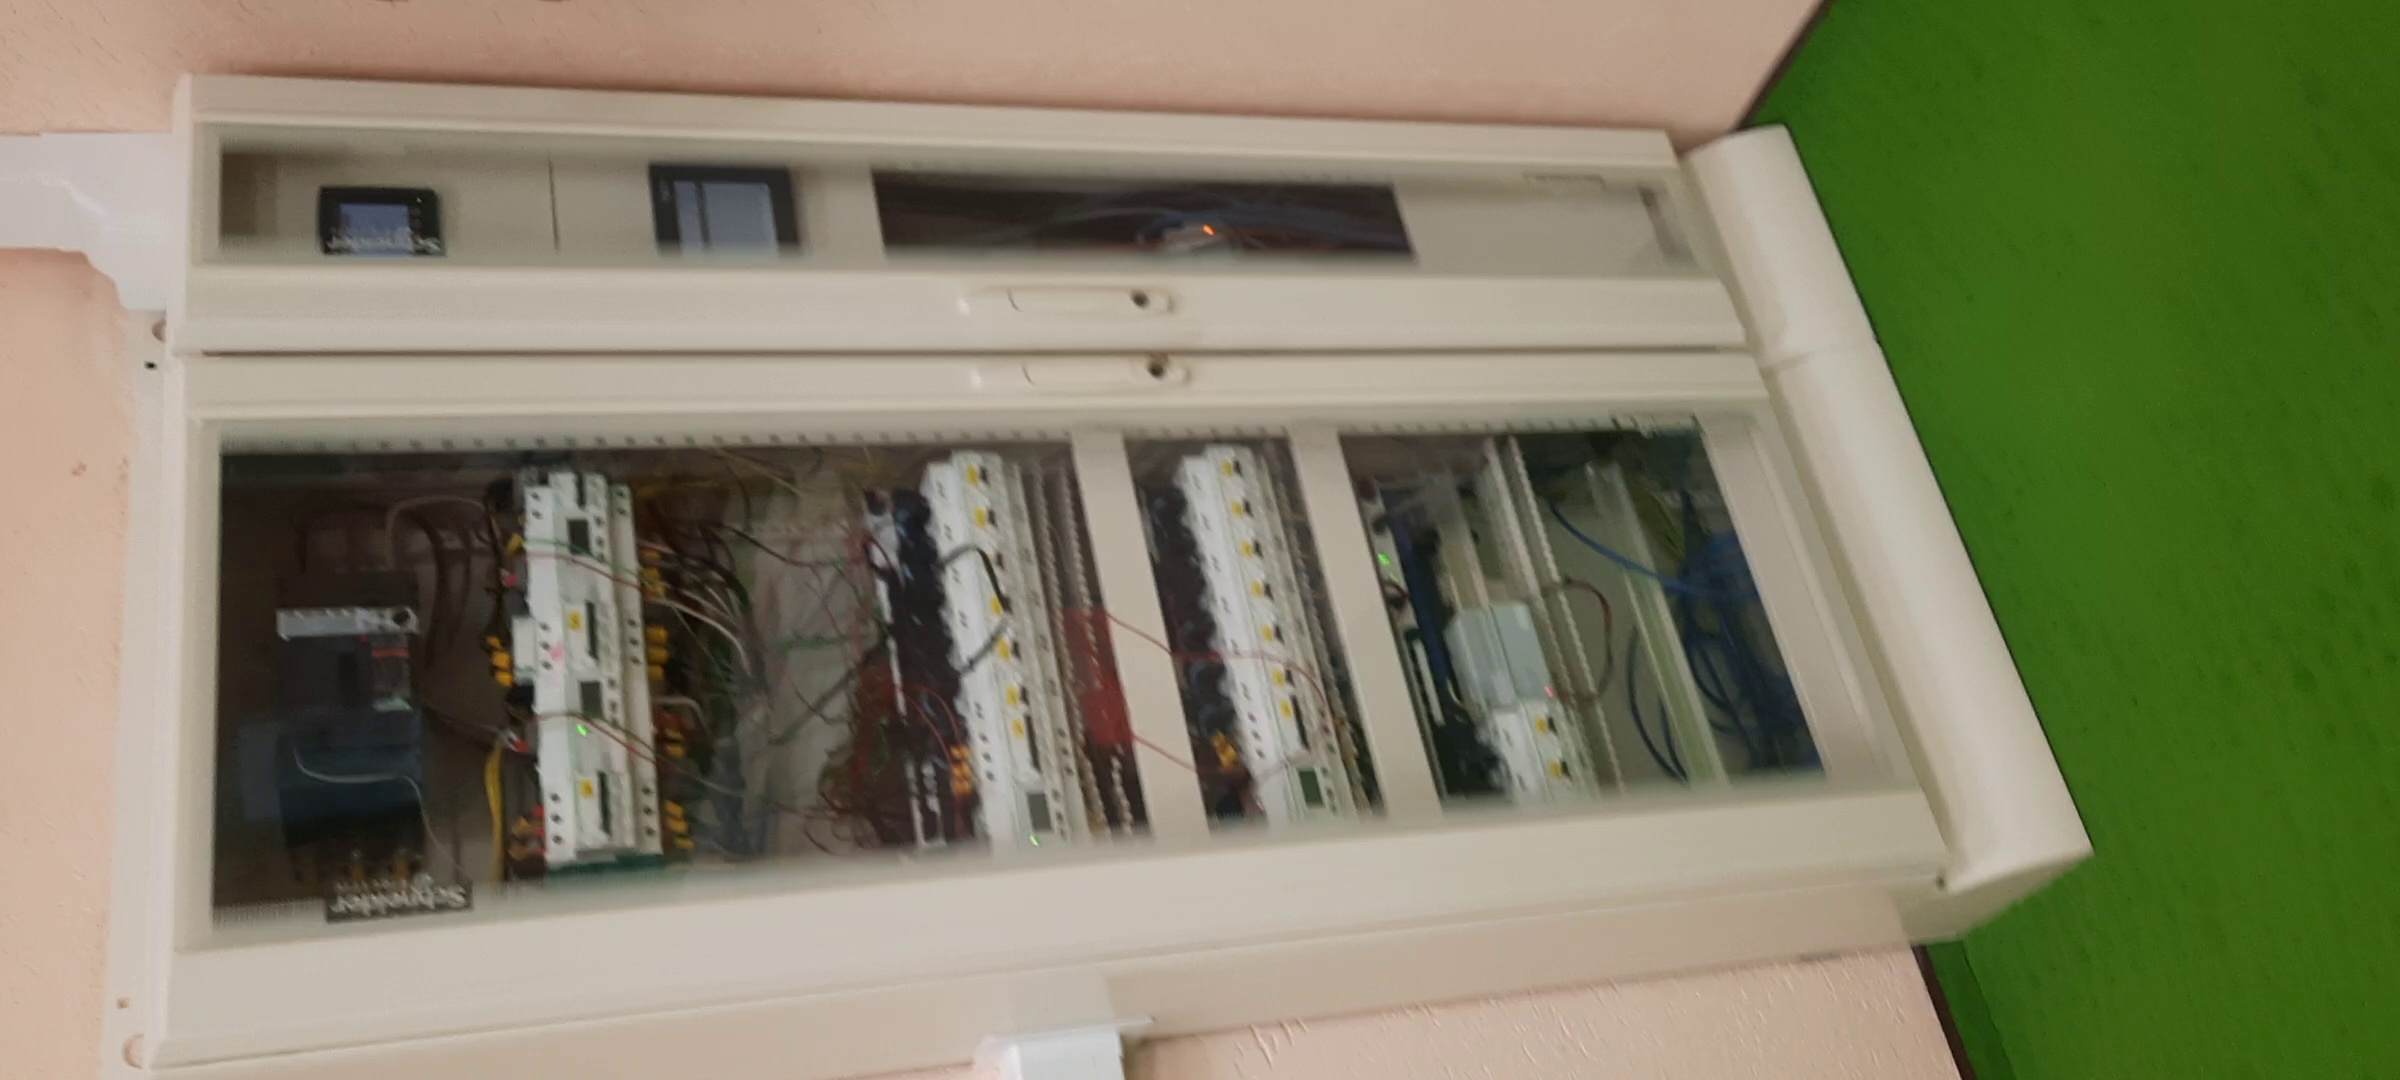stand1: (147, 96, 1981, 1059)
